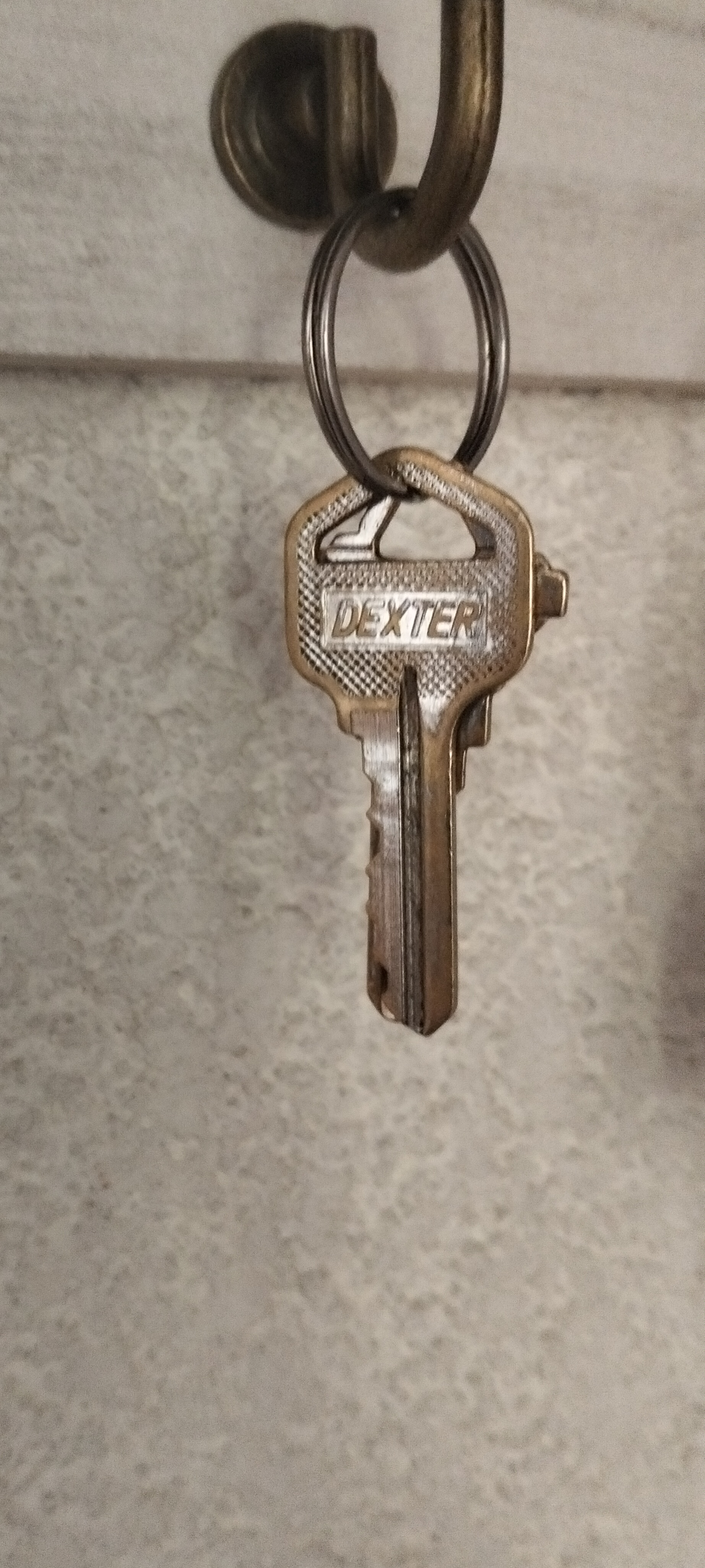llaves: (192, 146, 651, 1068)
